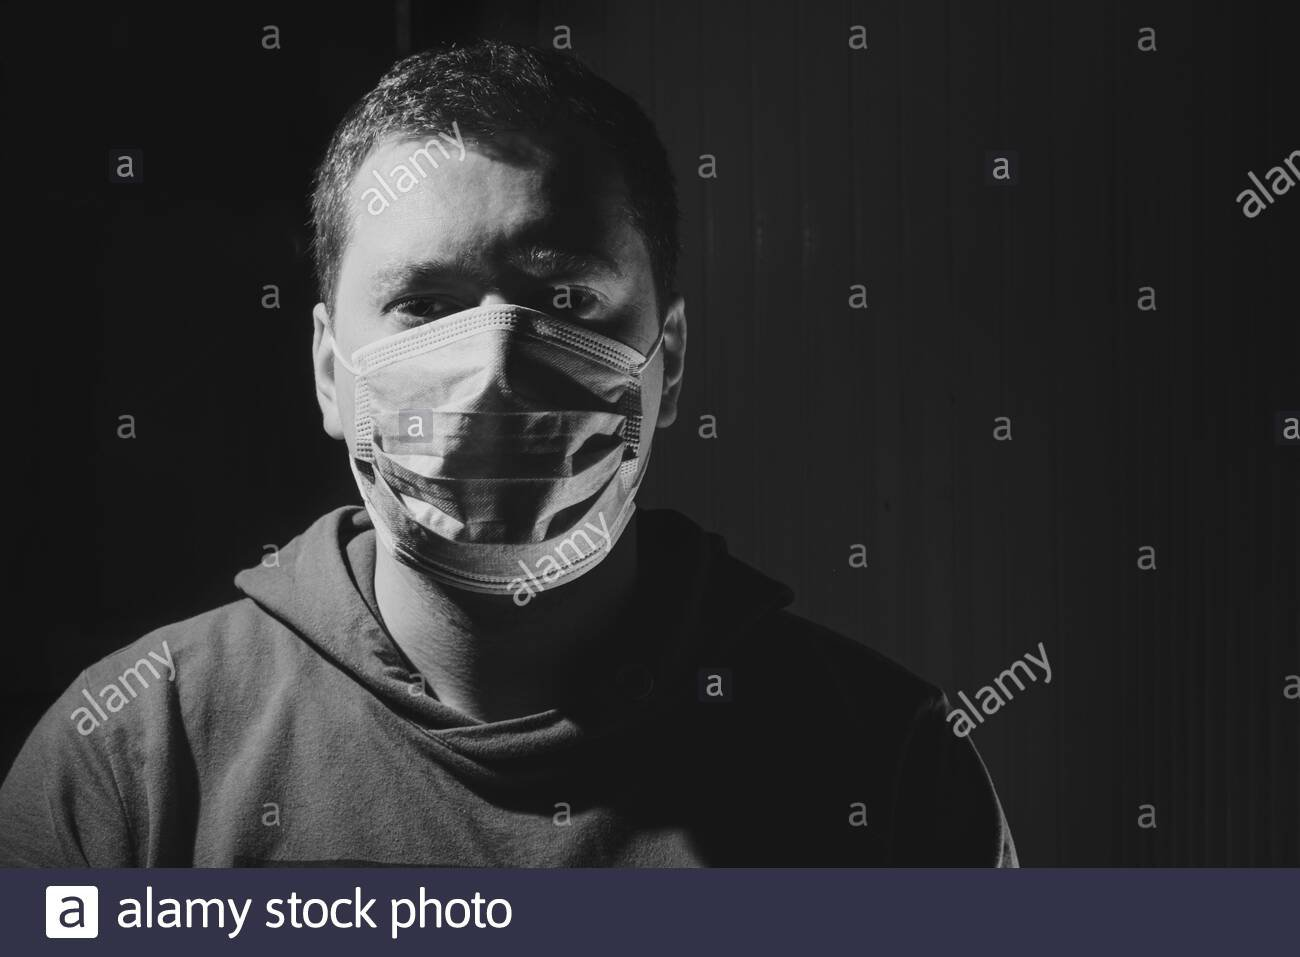mask: (280, 29, 742, 622)
